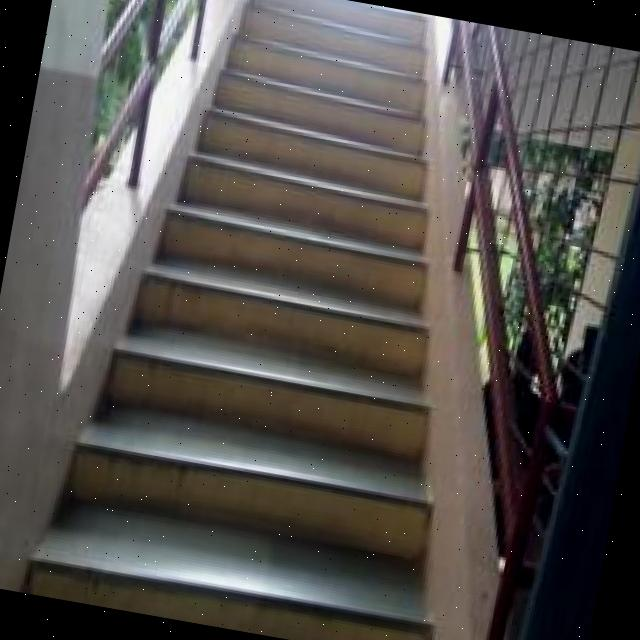stairs: (8, 0, 563, 640)
